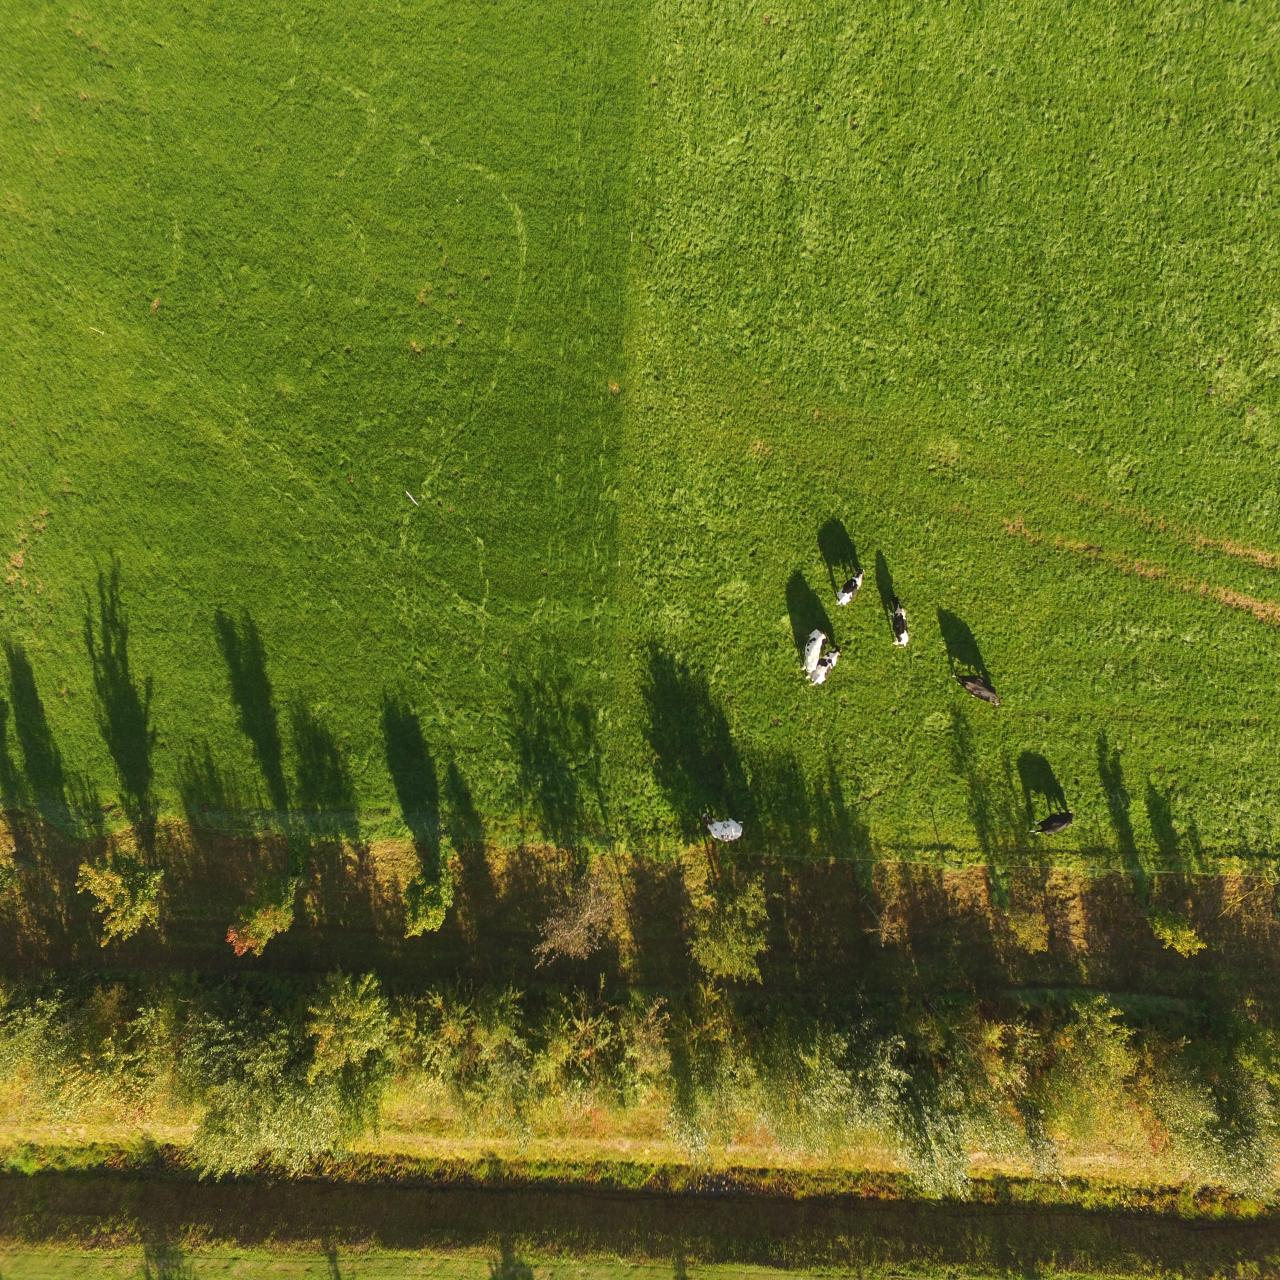cow: (948, 668, 1006, 707), (1023, 805, 1077, 844), (831, 565, 872, 607), (701, 810, 745, 844), (892, 598, 917, 654), (802, 629, 828, 674), (813, 649, 843, 686)
